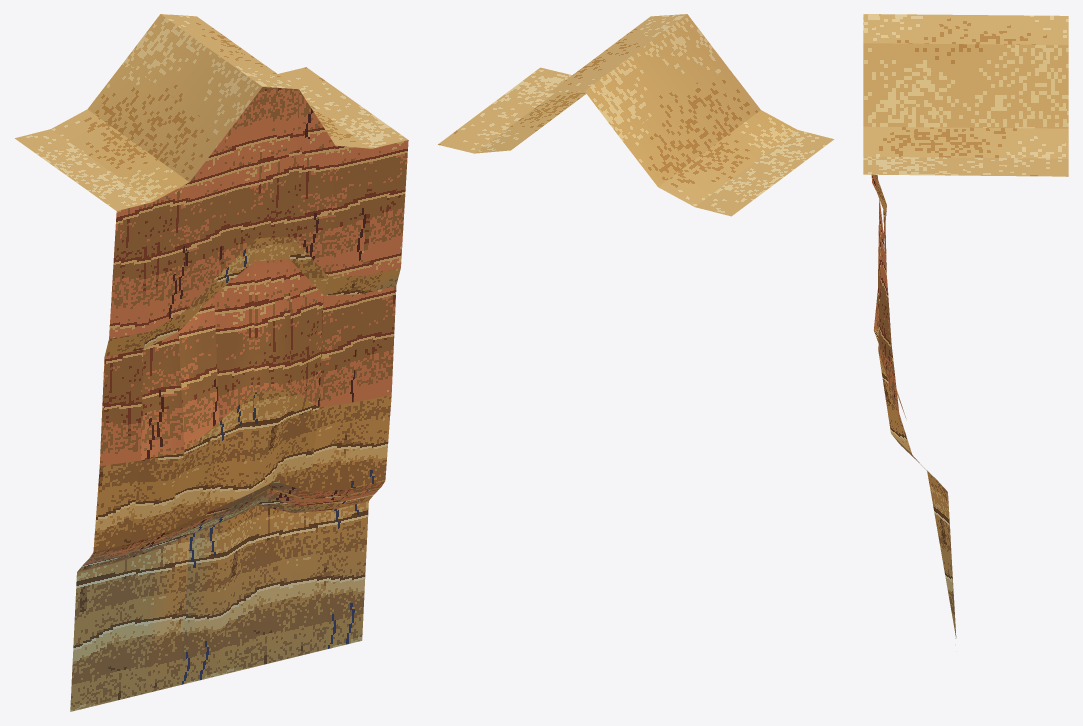
Rendered from wland.canyon_wall__tall.glb.
3 views of the same model, side by side, from view 1: azimuth 30°, elevation 25°; view 2: azimuth 150°, elevation 25°; view 3: azimuth 270°, elevation 25° (orthographic).
Visible parts, largest first — view 1: kit_shell_face, kit_shell_cap; view 2: kit_shell_cap; view 3: kit_shell_cap, kit_shell_face.
Boxes of the visible parts, x1=… form: kit_shell_face: x1=70, y1=87, x2=408, y2=711; kit_shell_cap: x1=15, y1=14, x2=407, y2=210; kit_shell_cap: x1=438, y1=14, x2=834, y2=216; kit_shell_cap: x1=863, y1=14, x2=1068, y2=176; kit_shell_face: x1=871, y1=174, x2=956, y2=638.
Size of the model in its own units: 8 by 16.32 by 4.85.
Materials: 3 (3 with a texture image).
